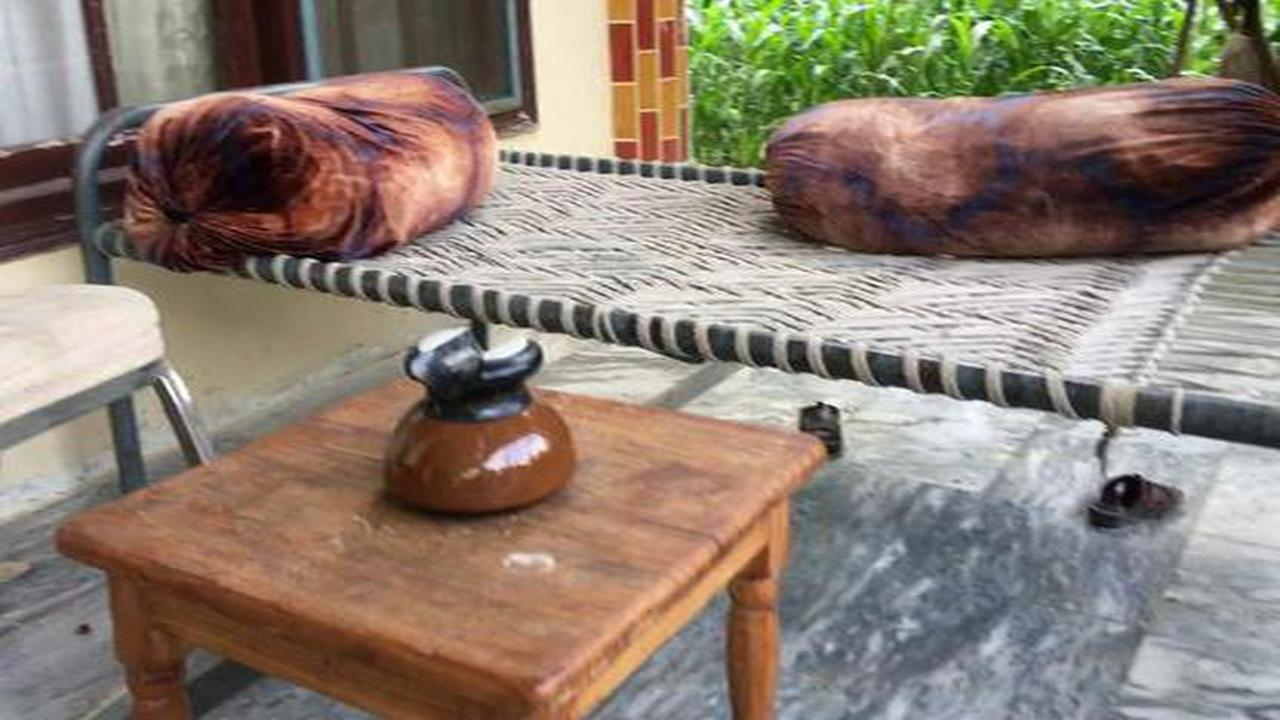insulator_pin: (351, 310, 597, 534)
